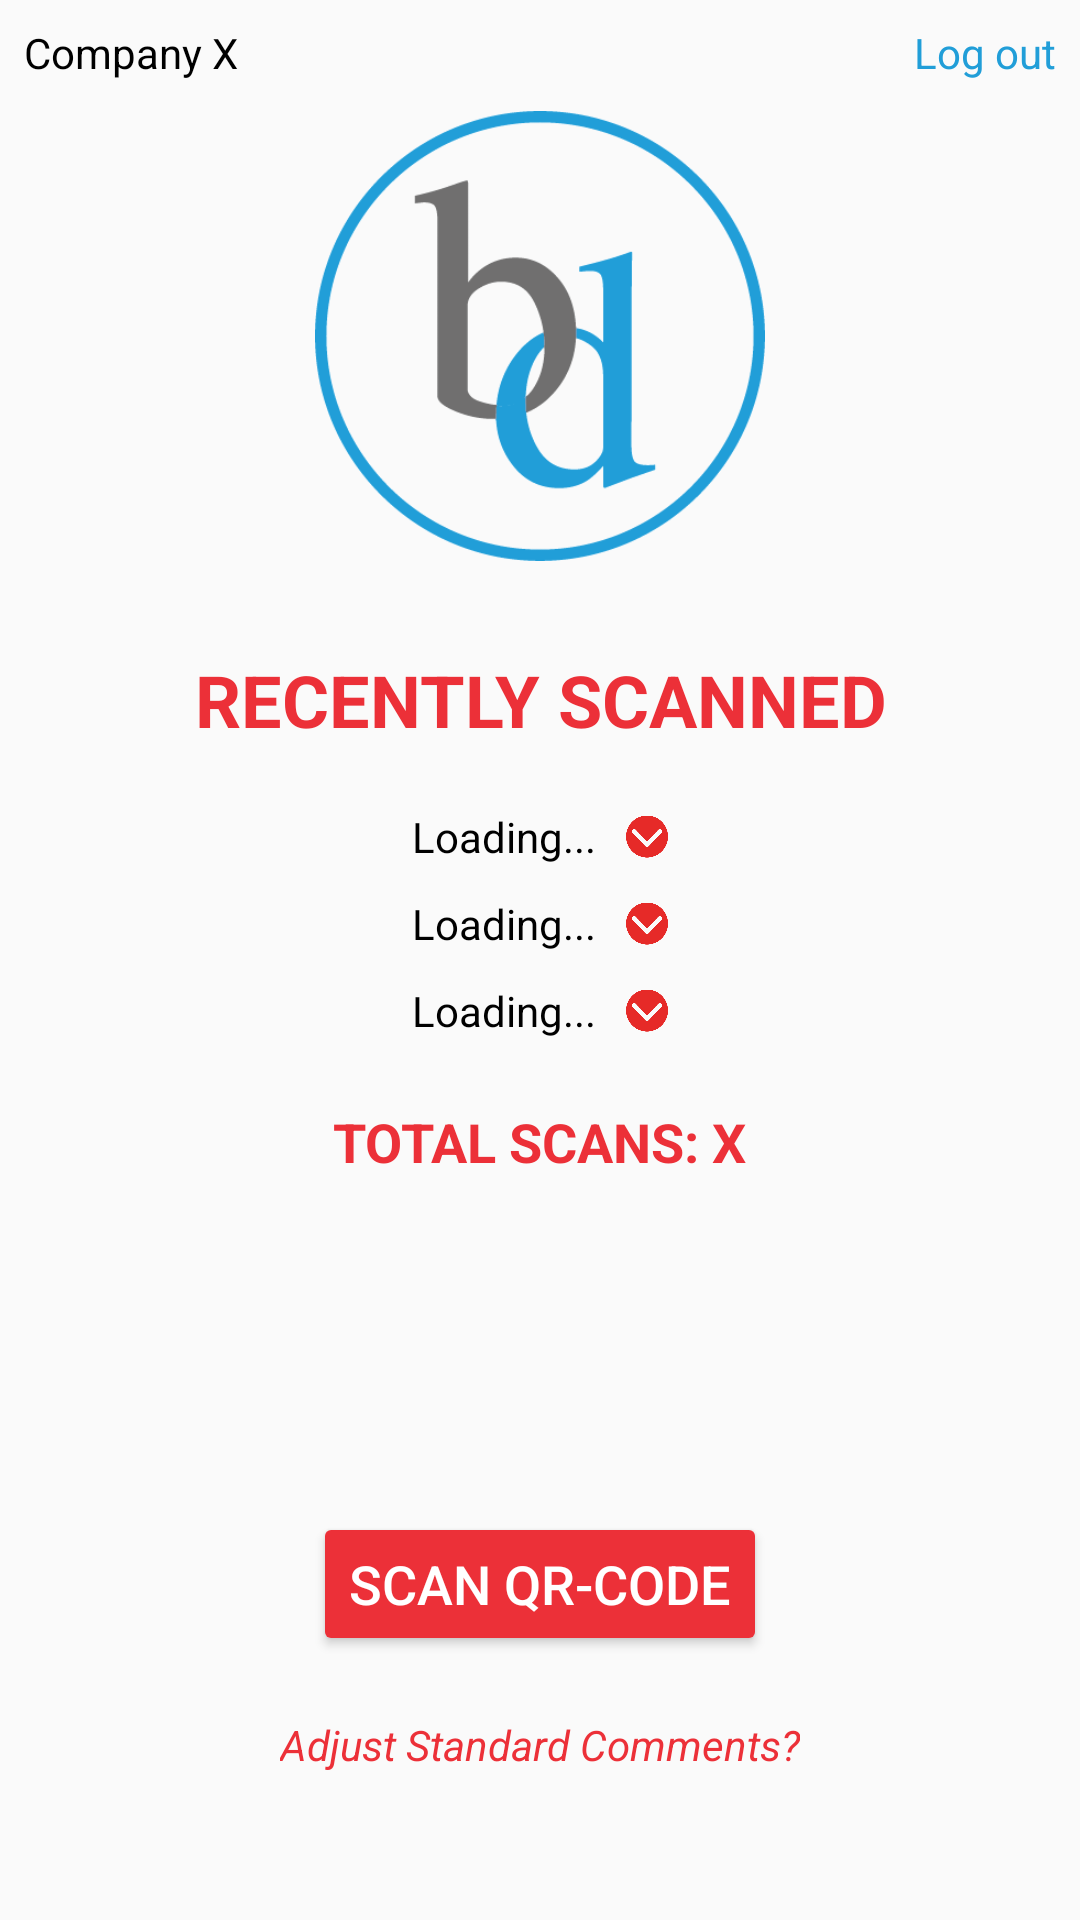

Icon click points for this 1080px×1920px phone screenshot, format (x=x, y=y):
knop: (x=647, y=837), (x=647, y=924), (x=647, y=1011)
